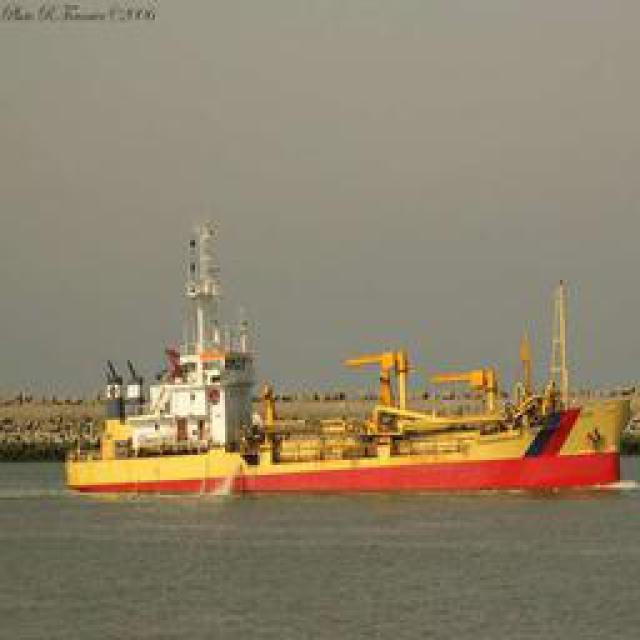Ship: (55, 387, 620, 497)
